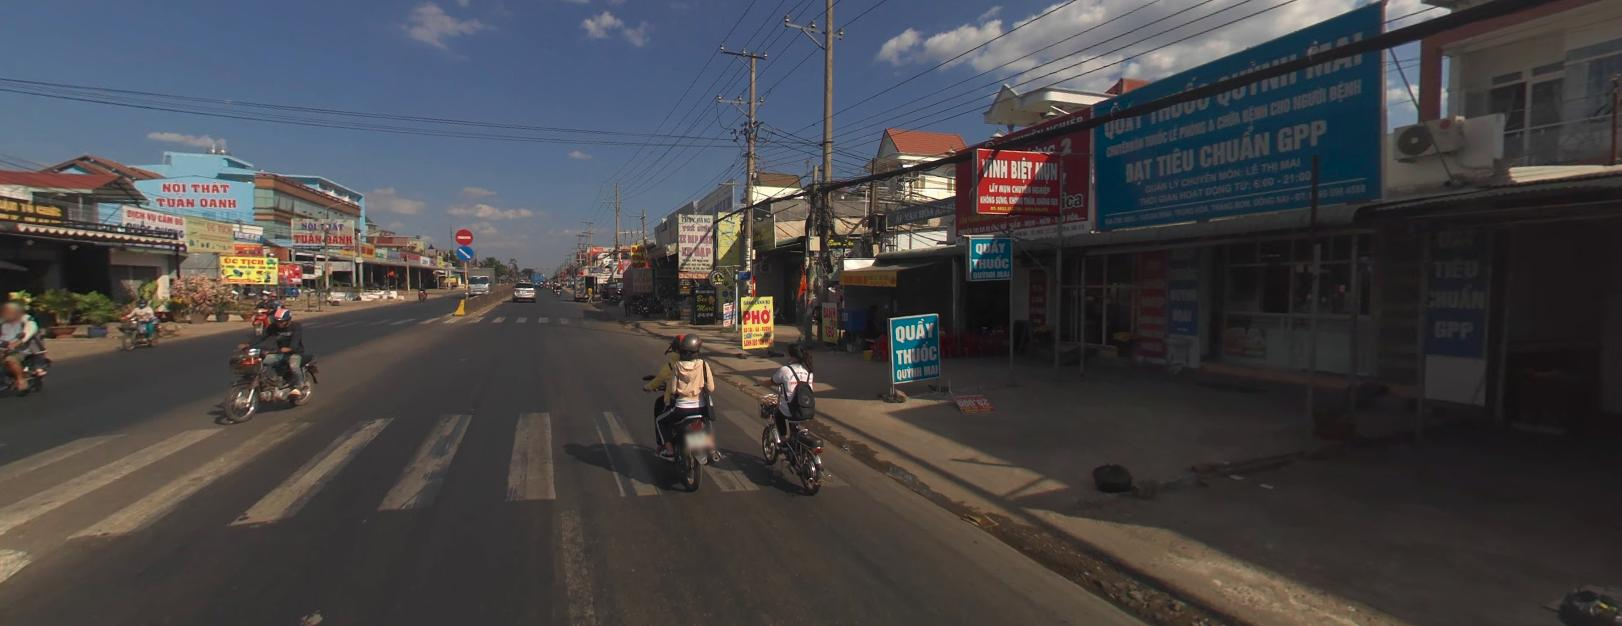Cam nguoc chieu: (455, 227, 472, 242)
Hieu lenh: (455, 243, 472, 259)
